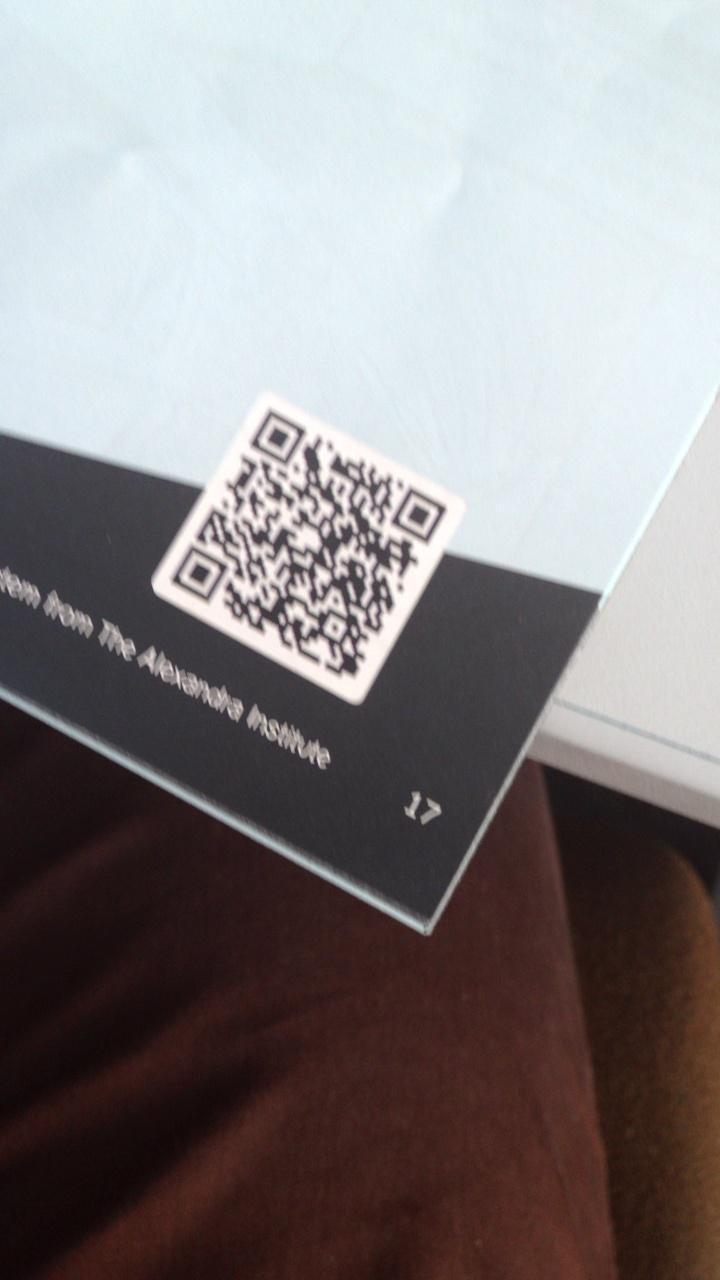Finder pattern: (386, 484, 447, 549), (246, 407, 307, 468), (169, 543, 228, 606)
